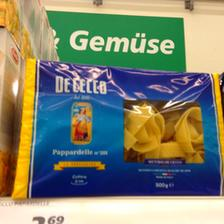Nudeln: (9, 58, 223, 198)
